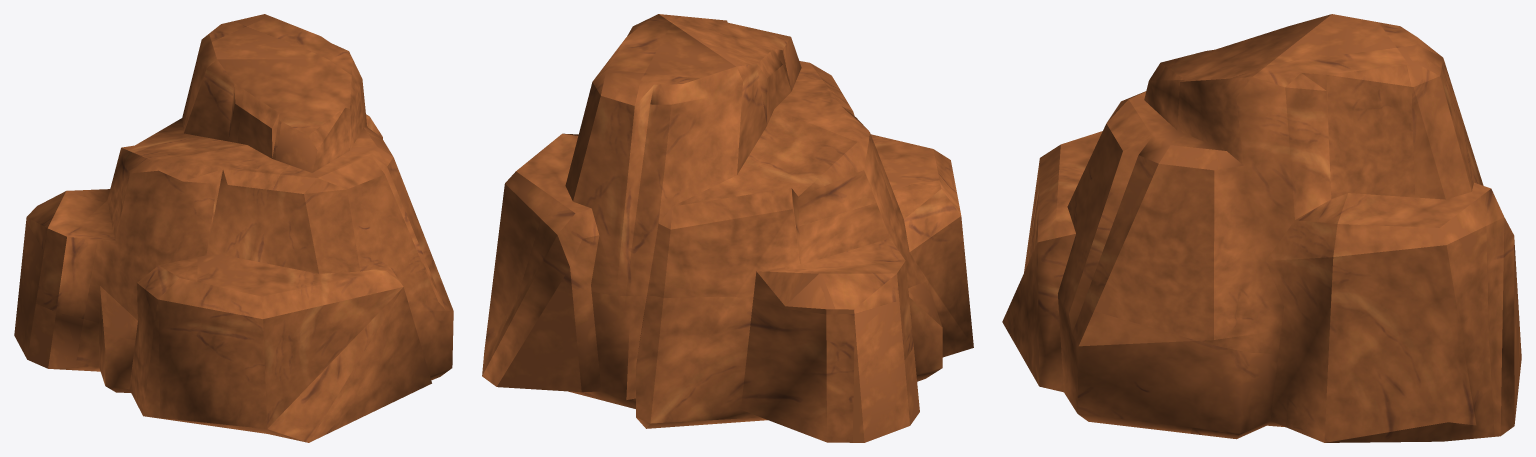
File: rock6.fbx
The picture shows the model from 3 angles, left to right: view 1: azimuth 30°, elevation 25°; view 2: azimuth 150°, elevation 25°; view 3: azimuth 270°, elevation 25°; orthographic projection. The views are drawn at different scales.
Visible parts, largest first — view 1: 6; view 2: 6; view 3: 6.
Part boxes in pixels (x1,y1,x2,y2): 6: (14,14,453,442); 6: (482,14,973,442); 6: (1002,14,1521,442).
Bounding box in the file's own units: 51.77 × 39.66 × 55.
1 material, 1 textured.
